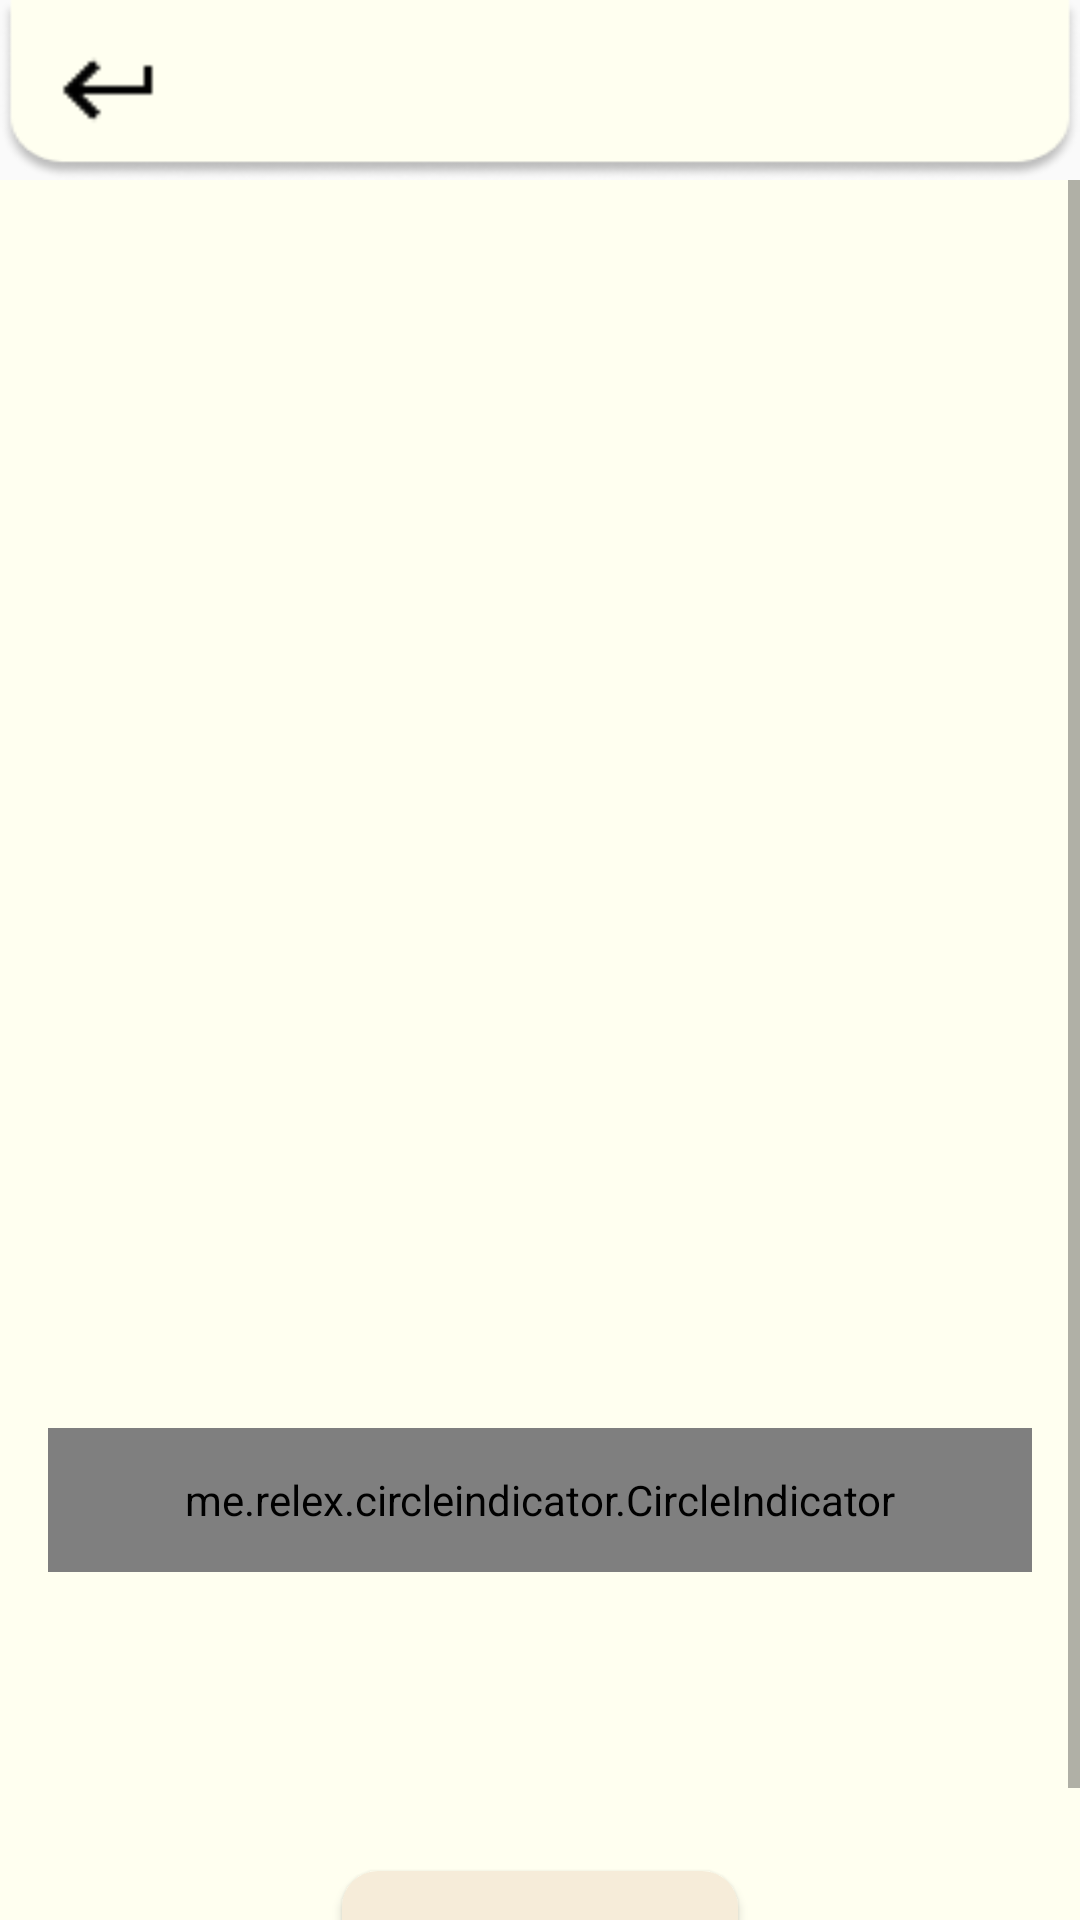

Locate icon controls on the screen. Image size 1080px×1920px, boxes as (x1, y1, x2, y2).
back: (62, 59, 154, 120)
